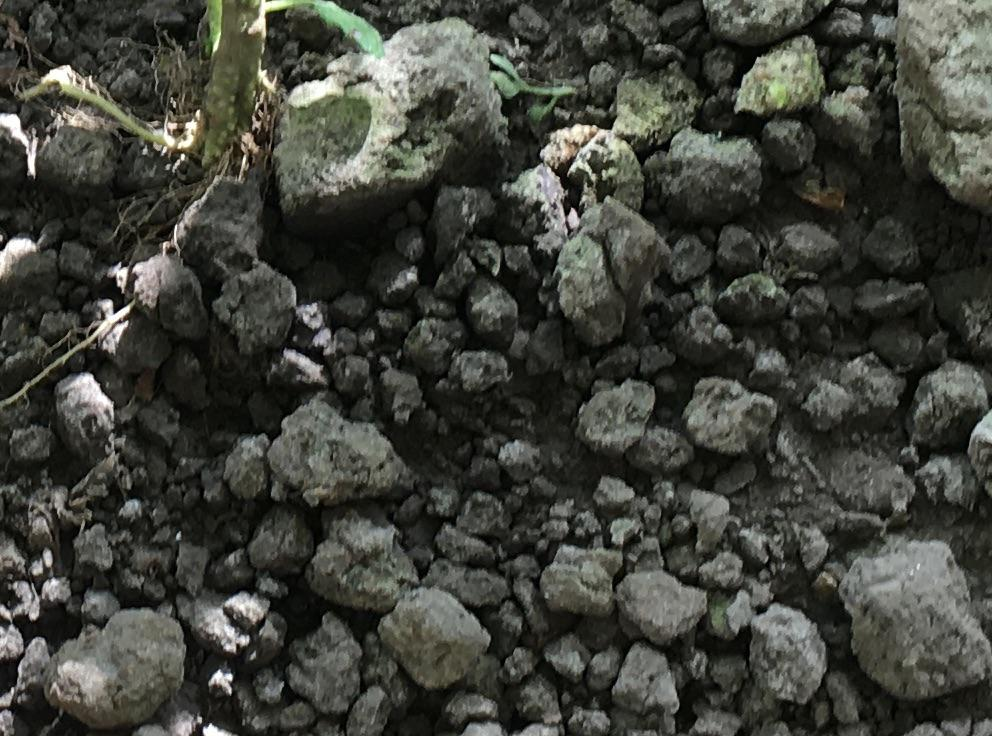block: (275, 18, 510, 216), (837, 542, 992, 702), (44, 606, 188, 729), (557, 197, 668, 352), (265, 400, 414, 512), (374, 588, 493, 690)
